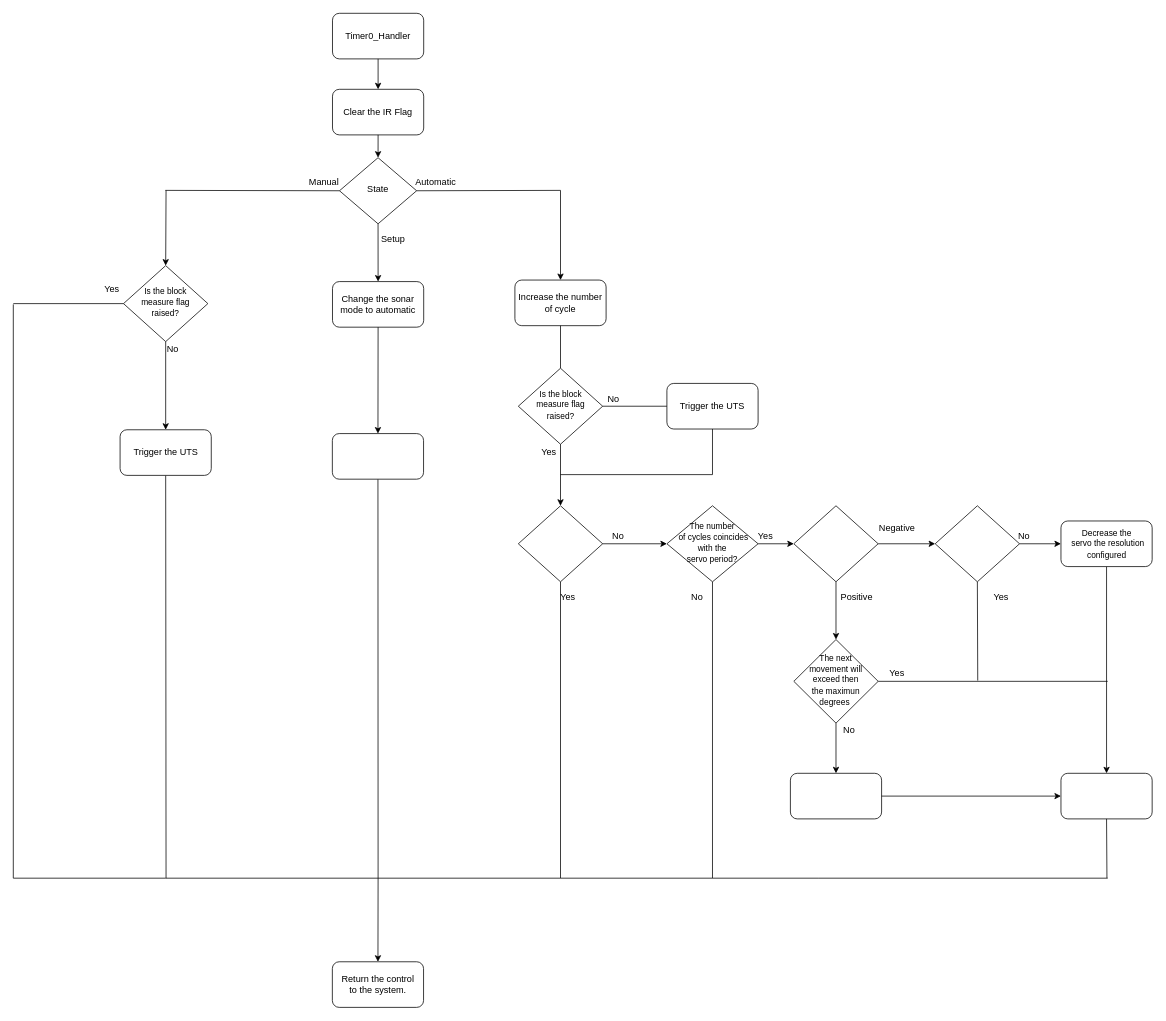
Some shapes in this 1166 by 1021 pixel diagram are drawn without their labels. Here are the shapes that lost their labels. From the top down, the centre of each, then its label:
At [378,456]: "Configure the Uart".
At [560,543]: "Is the block move flag raised?".
At [835,543]: "Direction?".
At [977,543]: "The next movement will less then the minimun degrees".
At [836,796]: "Increse the servo the resolution configured".
At [1106,796]: "Cycles = 0".
